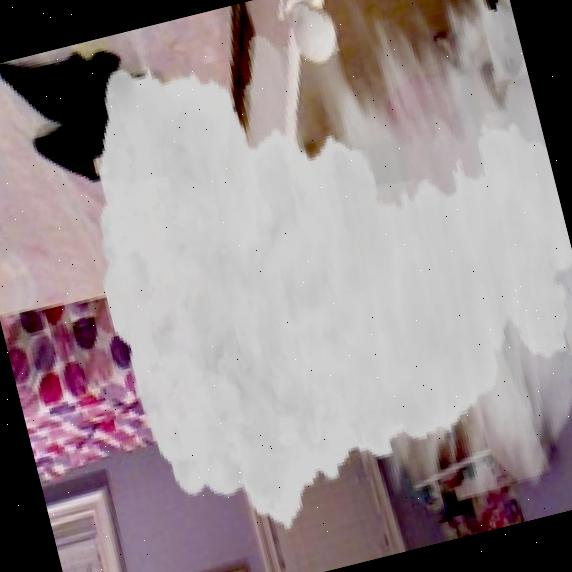smoke: (46, 0, 572, 572)
